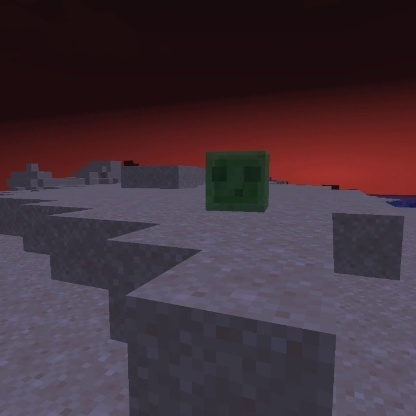slime: (200, 147, 274, 214)
